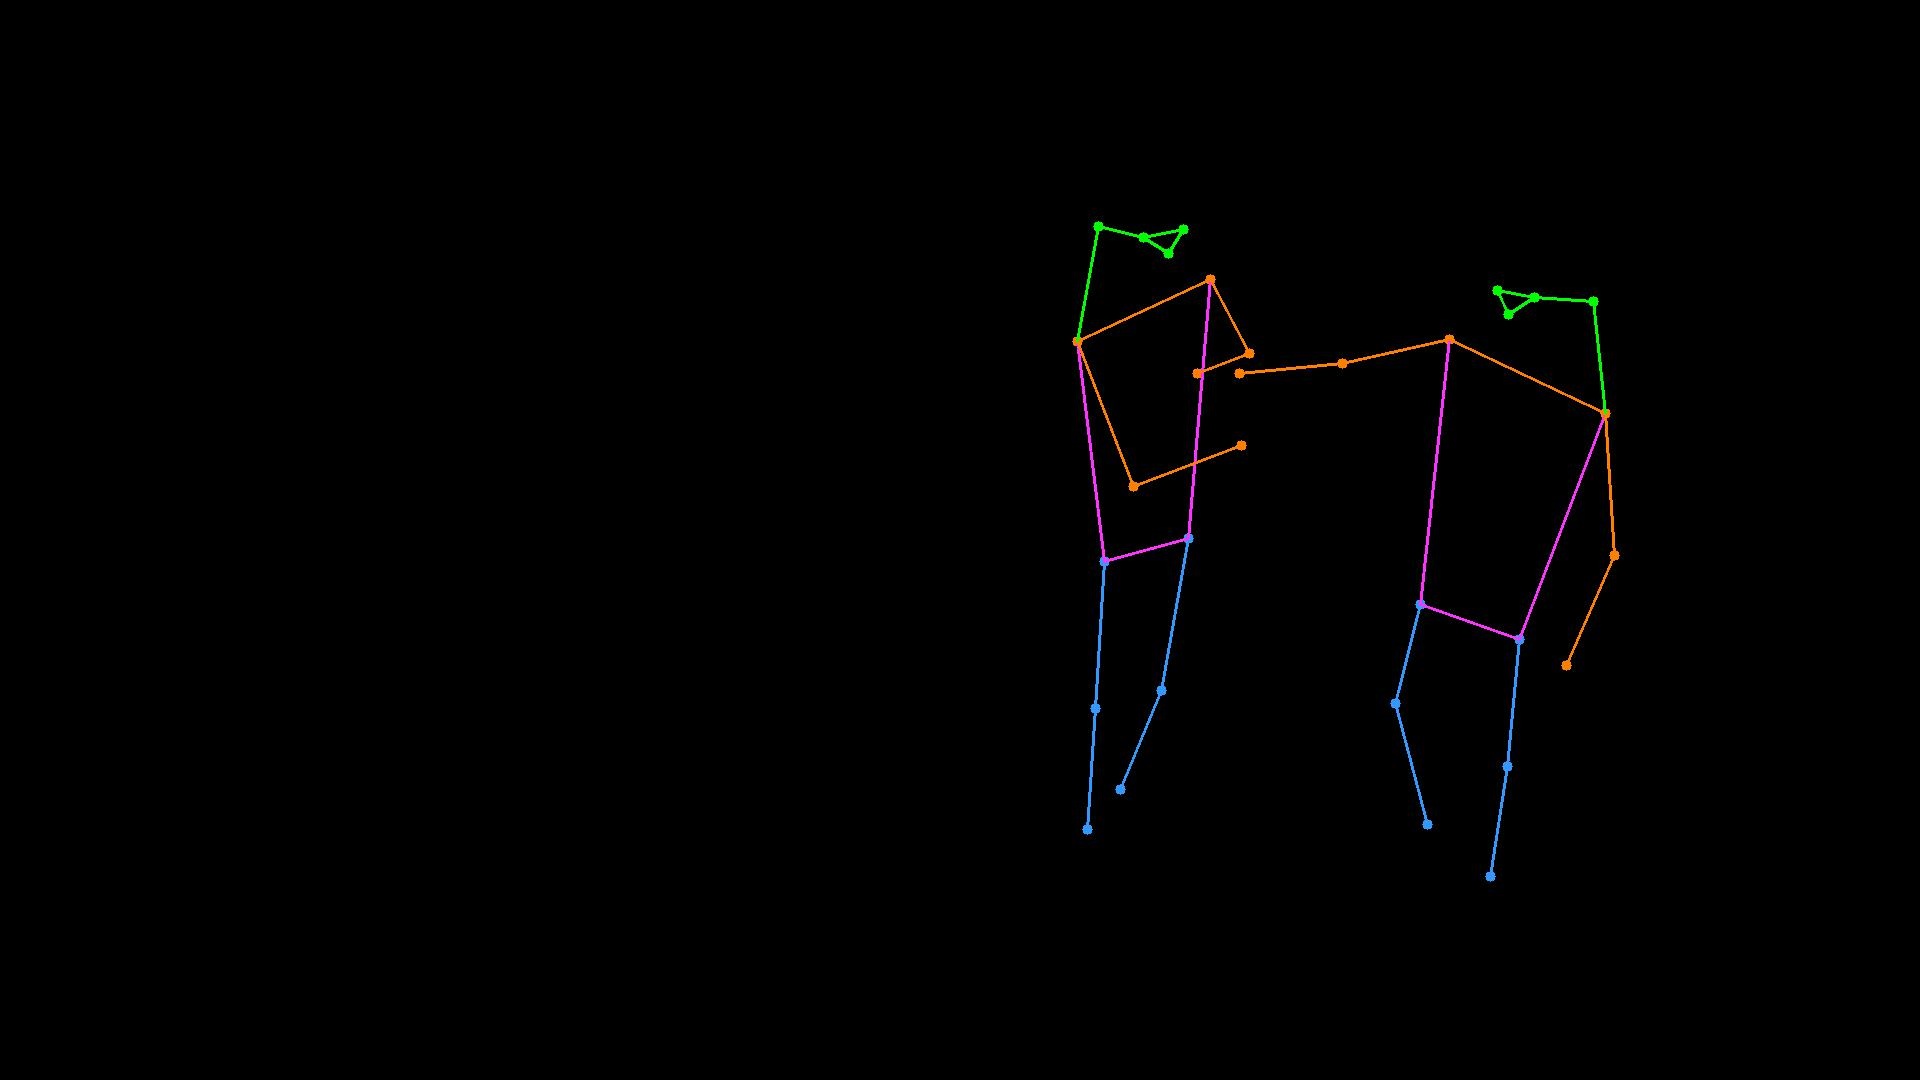normal: (1006, 185, 1683, 935)
